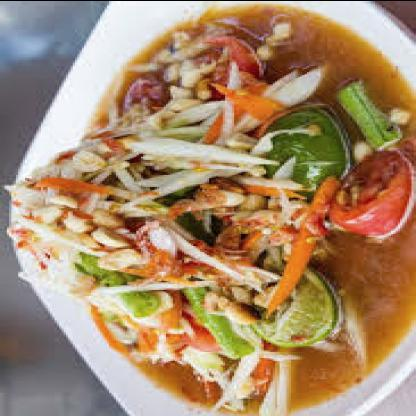Papaya Salad: (18, 4, 415, 415)
